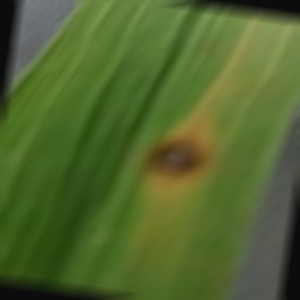Bacterial_Leaf_Blight: (131, 122, 222, 191), (194, 35, 222, 57), (250, 121, 275, 140), (239, 75, 262, 94)
